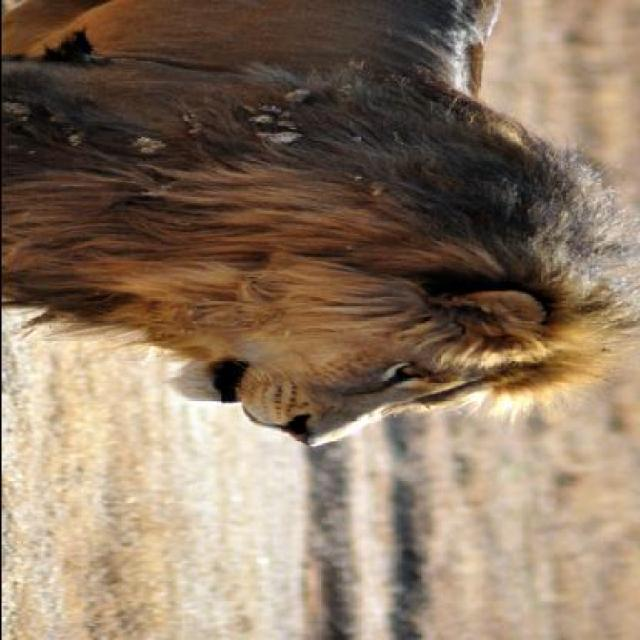Lion: (2, 3, 629, 465)
